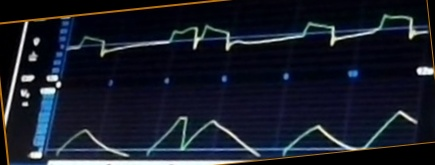Double_Triggering Flow: (72, 14, 428, 64)
Double_Triggering Volume: (57, 101, 419, 159)
